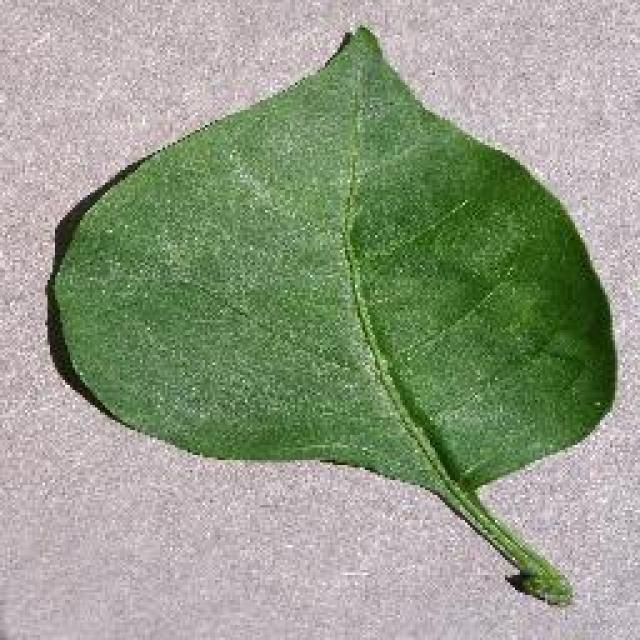Leaf: (32, 37, 636, 585)
